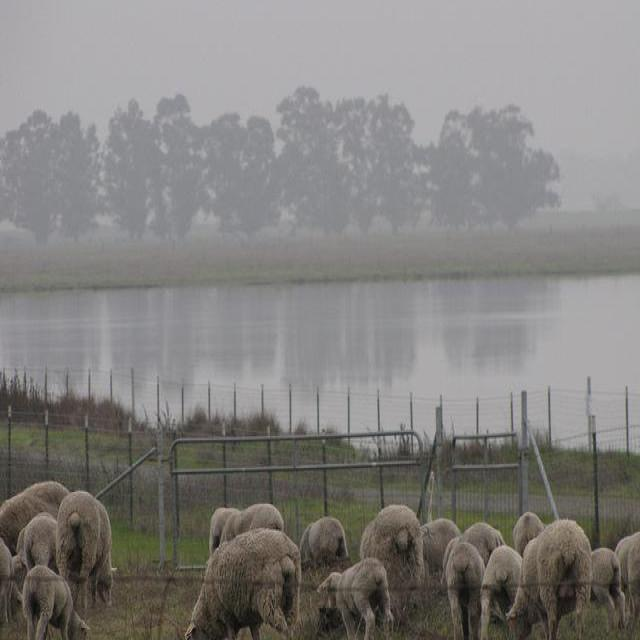Sheep: (0, 502, 639, 638), (185, 526, 302, 638), (504, 518, 592, 638), (55, 492, 117, 615), (361, 504, 426, 617), (317, 557, 394, 639), (438, 522, 506, 598), (1, 482, 68, 554), (481, 540, 524, 639), (11, 514, 58, 598), (447, 545, 483, 636), (215, 504, 283, 552), (300, 517, 350, 563)
